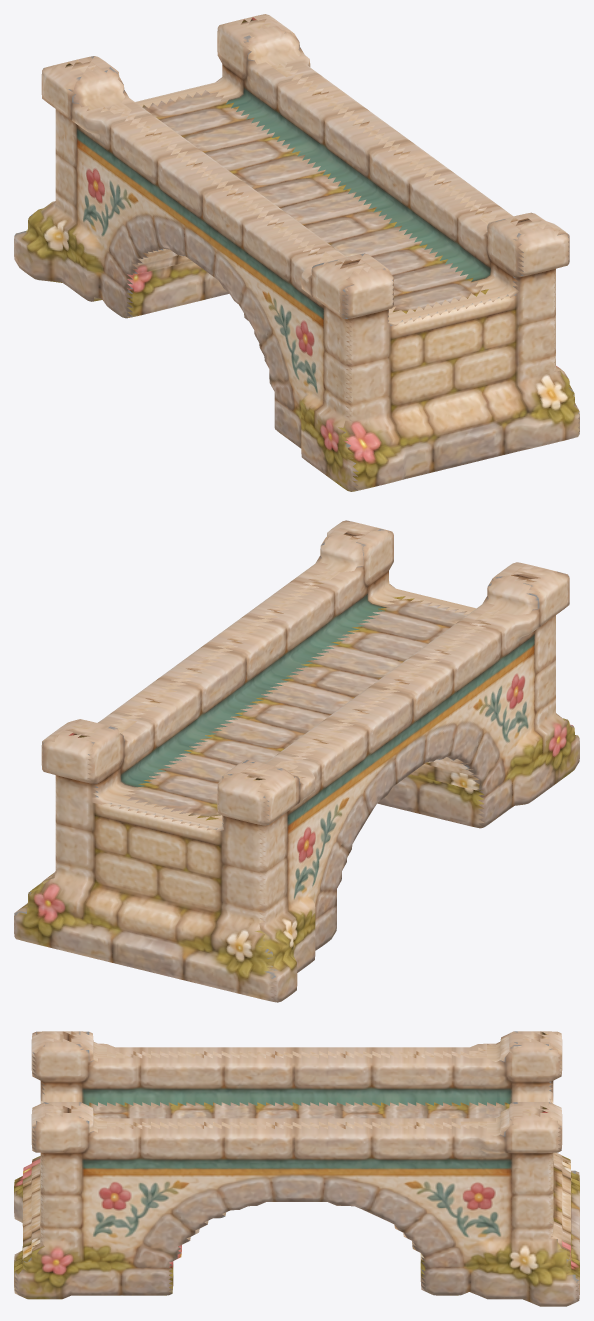
Rendered from bridge.glb.
3 views of the same model, one above another, from view 1: azimuth 30°, elevation 25°; view 2: azimuth 150°, elevation 25°; view 3: azimuth 270°, elevation 25° (orthographic). The views are drawn at different scales.
Size of the model in its own units: 1.34 by 1 by 2.86.
Materials: 1 (1 with a texture image).
